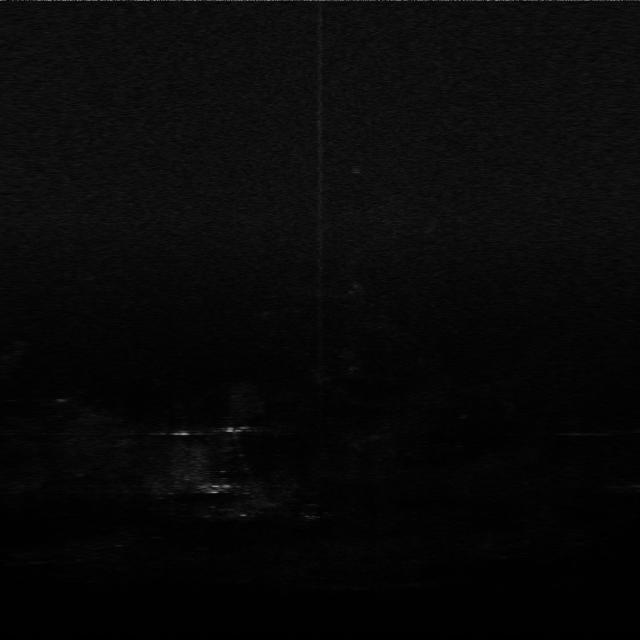rov: (191, 478, 238, 498)
